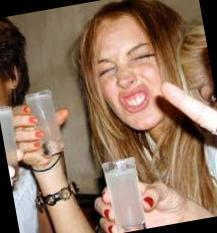Drunk: (92, 20, 165, 128)
